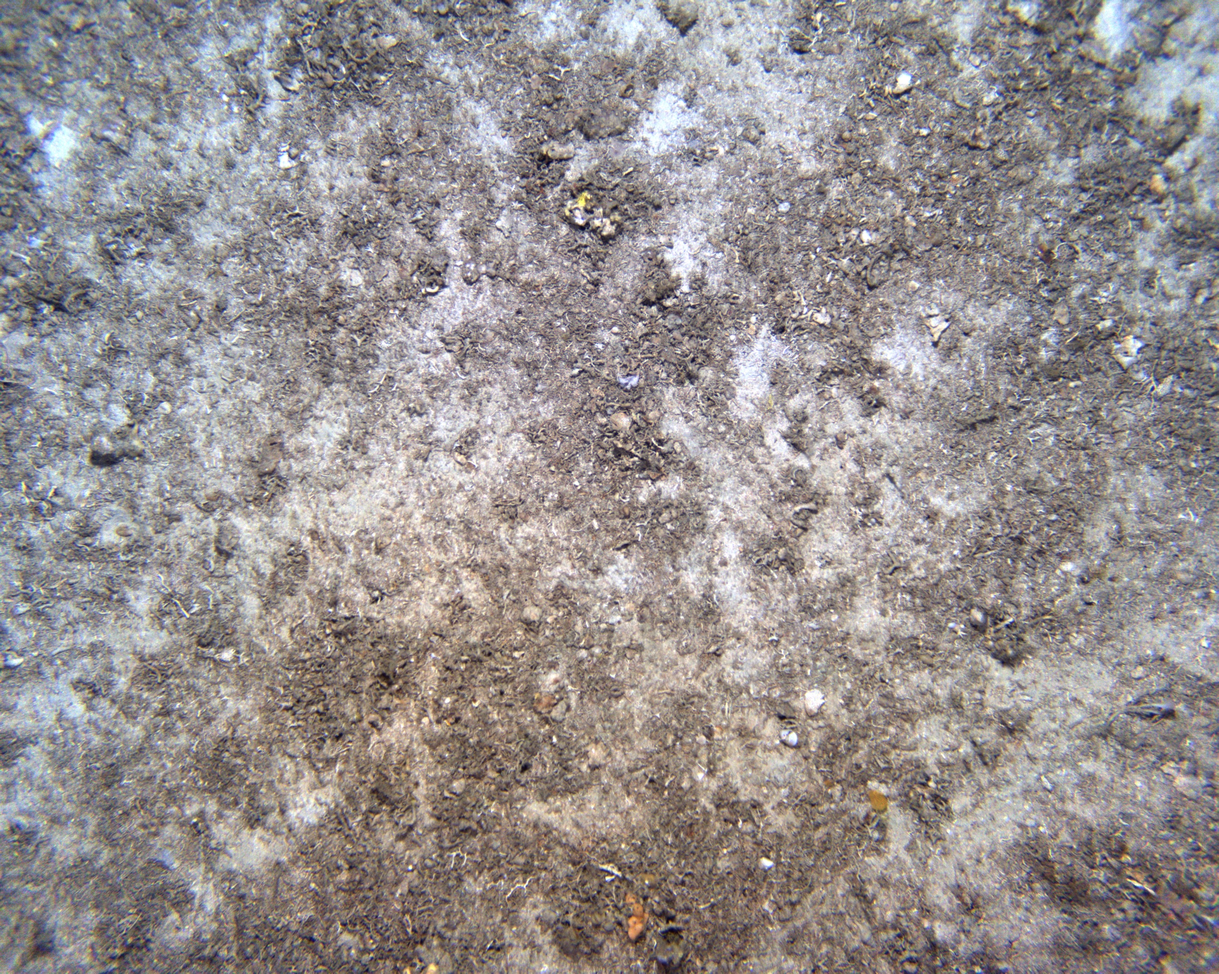Brachionichthyidae: (1101, 694, 1179, 730)
